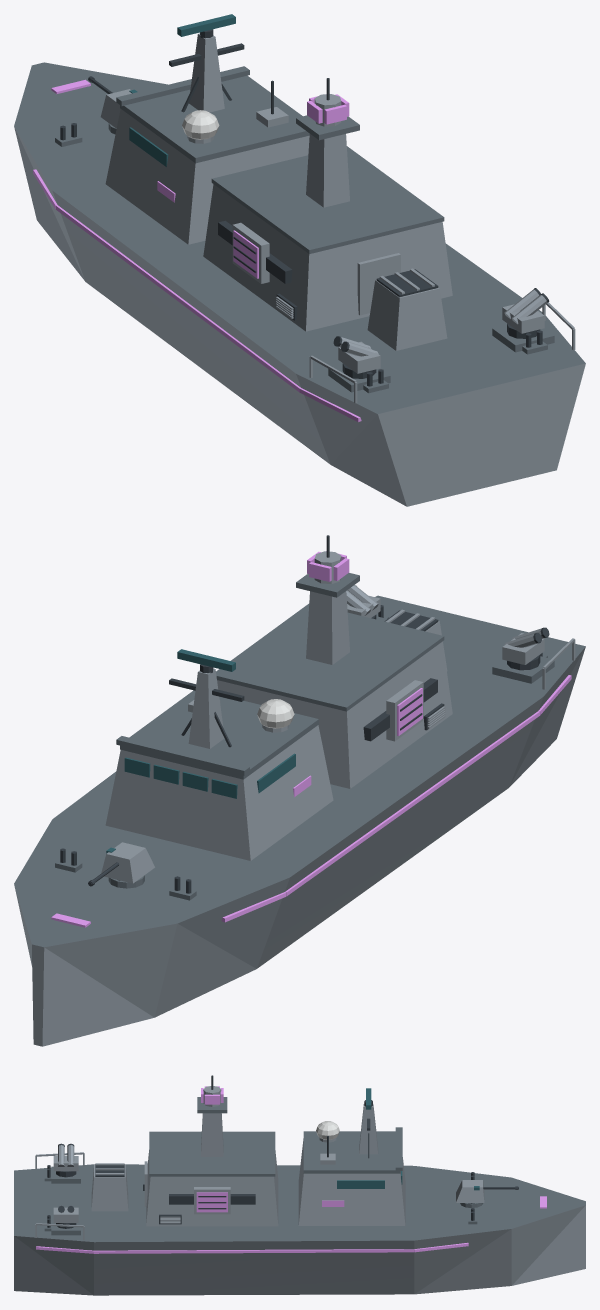
Rendered from ESC_EW_T1.fbx.
3 views of the same model, one above another, from view 1: azimuth 30°, elevation 25°; view 2: azimuth 150°, elevation 25°; view 3: azimuth 270°, elevation 25° (orthographic). The views are drawn at different scales.
Visible parts, largest first — view 1: ContinuousHull.009, ElectronicWarfareEquipmentRoom.001, ElectronicsRoomRoof, Deckhouse.009, Roof.009, FunnelEnclosure.009, ESMMast.001, NavMast.005, RoleHullStripe-1_1, EWServiceHatch, BridgeBrow, JammerBackplate_P0 (+9 smaller); view 2: ContinuousHull.009, Deckhouse.009, ElectronicsRoomRoof, ElectronicWarfareEquipmentRoom.001, Roof.009, ESMMast.001, NavMast.005, RoleHullStripe-1_1, PrimaryGunCupola.009, BridgeBrow, SecureDatalinkRadome, JammerBackplate_P0 (+5 smaller); view 3: ContinuousHull.009, Deckhouse.009, ElectronicsRoomRoof, ElectronicWarfareEquipmentRoom.001, Roof.009, FunnelEnclosure.009, RoleHullStripe1_1, ESMMast.001, NavMast.005, PrimaryGunCupola.009, JammerFace_S0, JammerWallBracket_S (+8 smaller).
Part boxes in pixels (x1,y1,x2,y2): ContinuousHull.009: (14, 62, 585, 506); ElectronicWarfareEquipmentRoom.001: (203, 184, 452, 331); ElectronicsRoomRoof: (211, 146, 444, 253); Deckhouse.009: (105, 109, 309, 244); Roof.009: (120, 75, 309, 163); FunnelEnclosure.009: (367, 280, 447, 350); ESMMast.001: (306, 134, 349, 207); NavMast.005: (189, 33, 224, 112); RoleHullStripe-1_1: (55, 205, 300, 392); EWServiceHatch: (357, 253, 400, 315); BridgeBrow: (116, 66, 249, 105); JammerBackplate_P0: (232, 222, 269, 283); ContinuousHull.009: (14, 595, 585, 1046); Deckhouse.009: (105, 725, 333, 860); ElectronicsRoomRoof: (216, 603, 444, 711); ElectronicWarfareEquipmentRoom.001: (217, 641, 452, 788); Roof.009: (120, 690, 318, 779); ESMMast.001: (306, 591, 349, 664); NavMast.005: (188, 668, 224, 748); RoleHullStripe-1_1: (285, 711, 539, 896); PrimaryGunCupola.009: (101, 842, 154, 883); BridgeBrow: (116, 736, 249, 775); SecureDatalinkRadome: (257, 699, 294, 728); JammerBackplate_P0: (386, 680, 423, 741); ContinuousHull.009: (14, 1164, 585, 1295); Deckhouse.009: (298, 1138, 405, 1225); ElectronicsRoomRoof: (149, 1131, 275, 1176); ElectronicWarfareEquipmentRoom.001: (146, 1150, 278, 1226); Roof.009: (303, 1131, 400, 1173); FunnelEnclosure.009: (91, 1164, 128, 1211); RoleHullStripe1_1: (94, 1249, 414, 1253); ESMMast.001: (201, 1113, 223, 1156); NavMast.005: (359, 1104, 378, 1154); PrimaryGunCupola.009: (456, 1180, 484, 1202); JammerFace_S0: (196, 1192, 227, 1212); JammerWallBracket_S: (169, 1194, 255, 1204).
Size of the model in its own units: 290 by 333 by 900.
